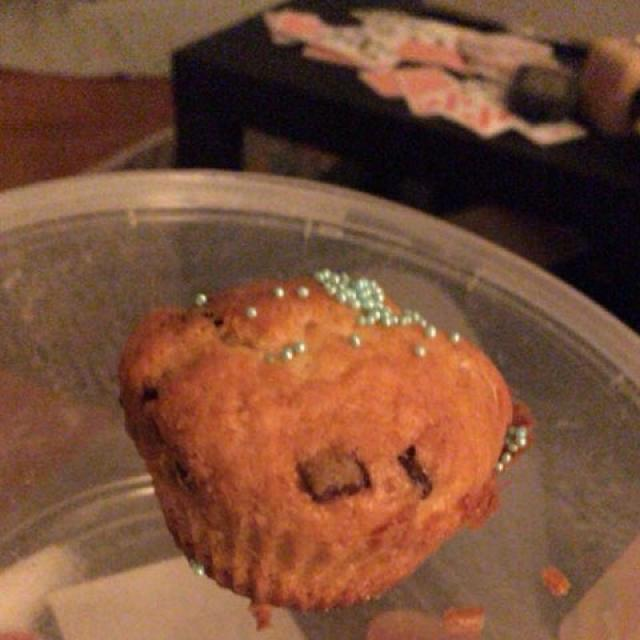thucan: (120, 270, 529, 625)
